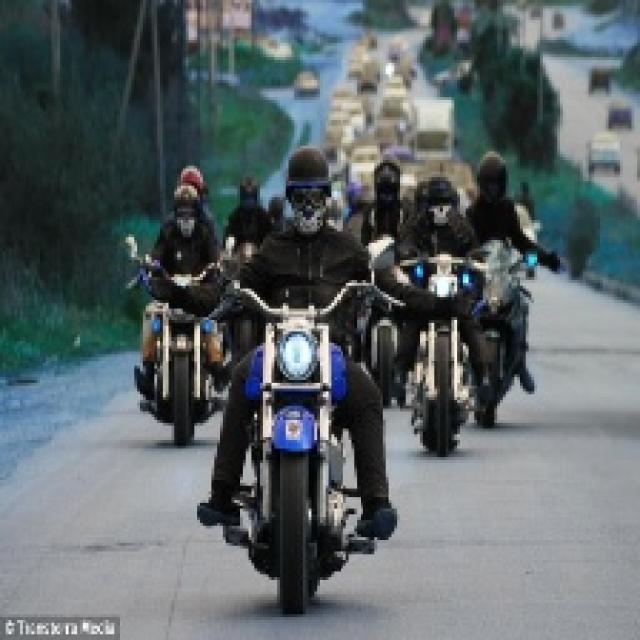bike: (236, 267, 369, 604), (132, 249, 228, 432), (464, 235, 542, 424), (408, 242, 475, 458)
